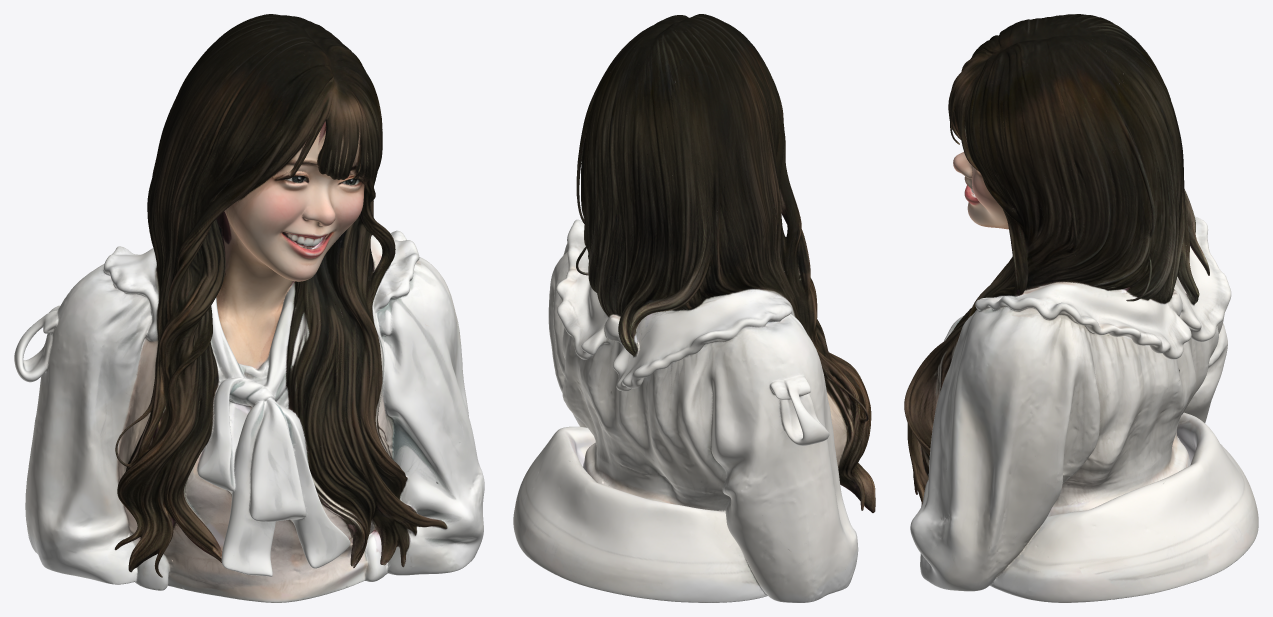
3 renders of one model, left to right at view 1: azimuth 30°, elevation 25°; view 2: azimuth 150°, elevation 25°; view 3: azimuth 270°, elevation 25°, orthographic. The views are drawn at different scales.
Size of the model in its own units: 1.39 by 1.9 by 1.2.
1 material, 1 textured.
